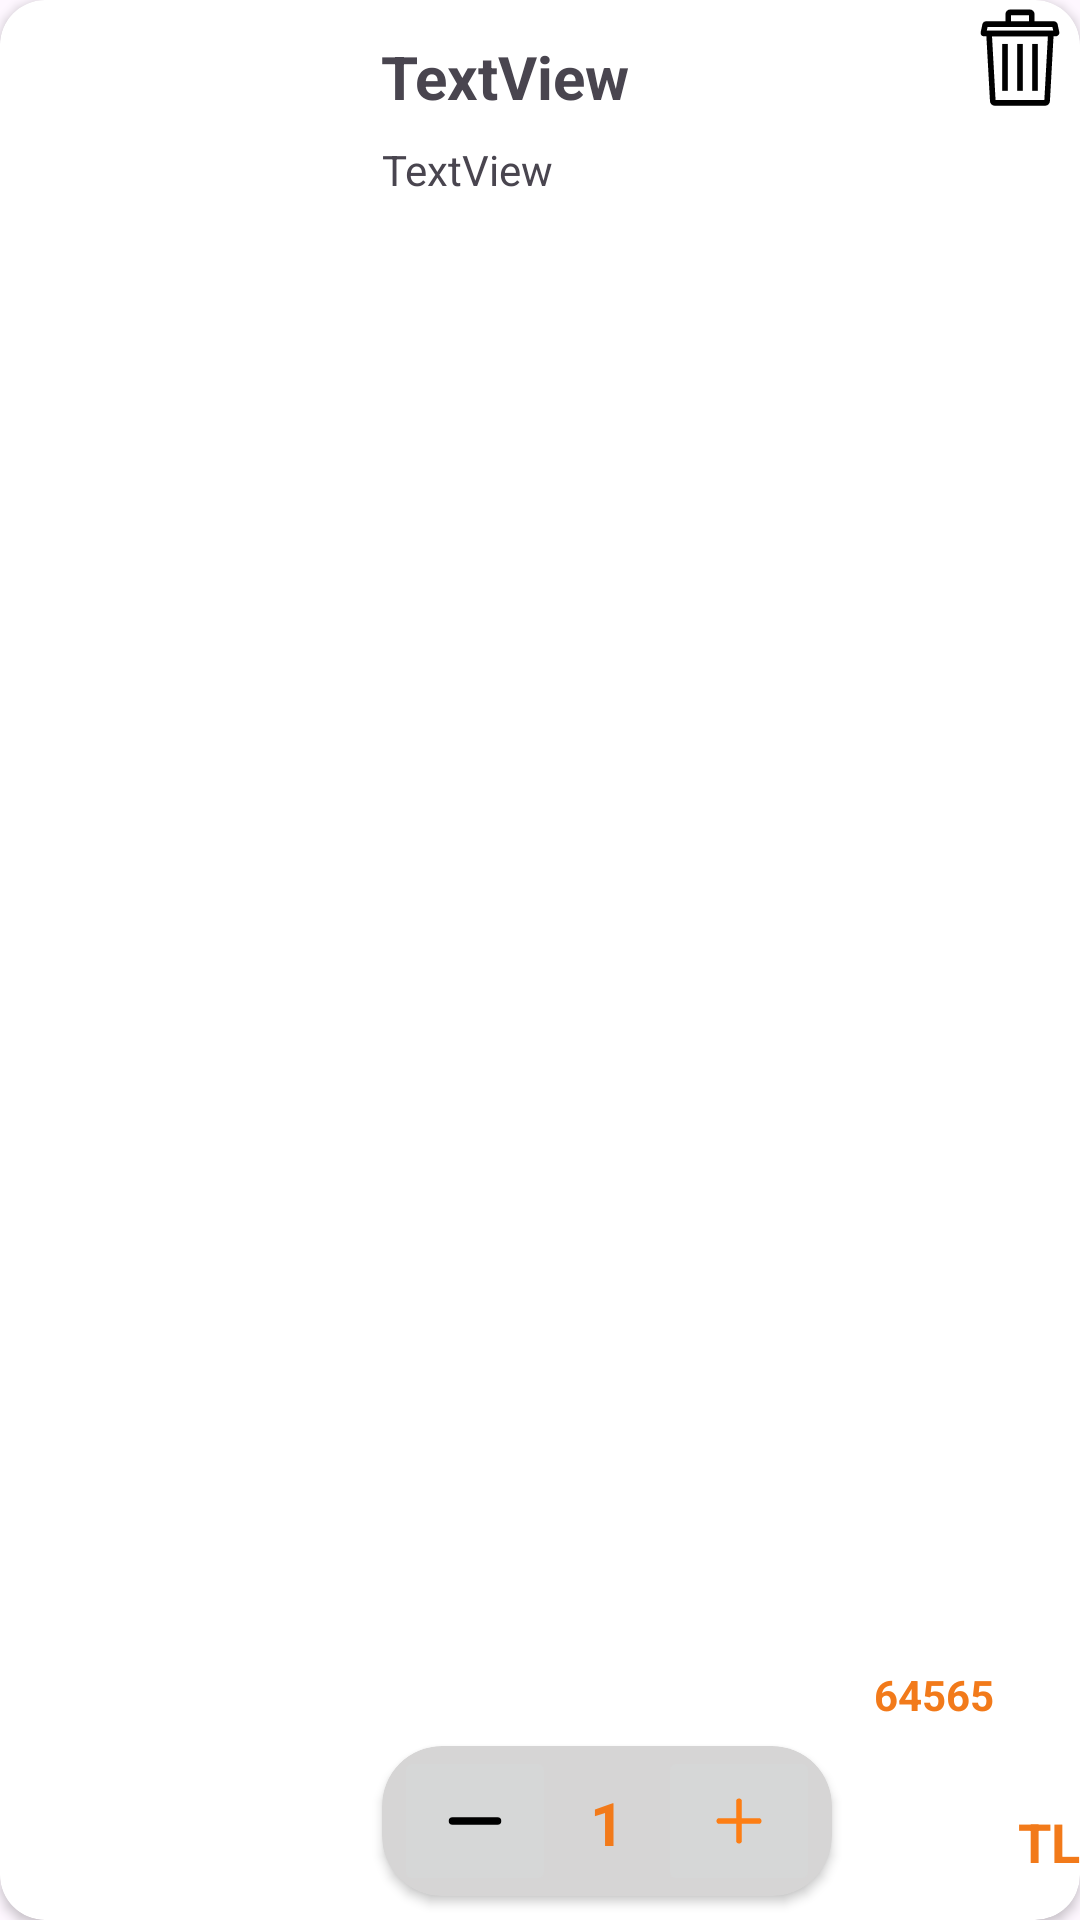

Icon bounding boxes for this 1080x1920 phone screenshot, format Rect(x1, y1, x2, y2):
plus: Rect(716, 1798, 762, 1844)
trash: Rect(980, 0, 1080, 106)
